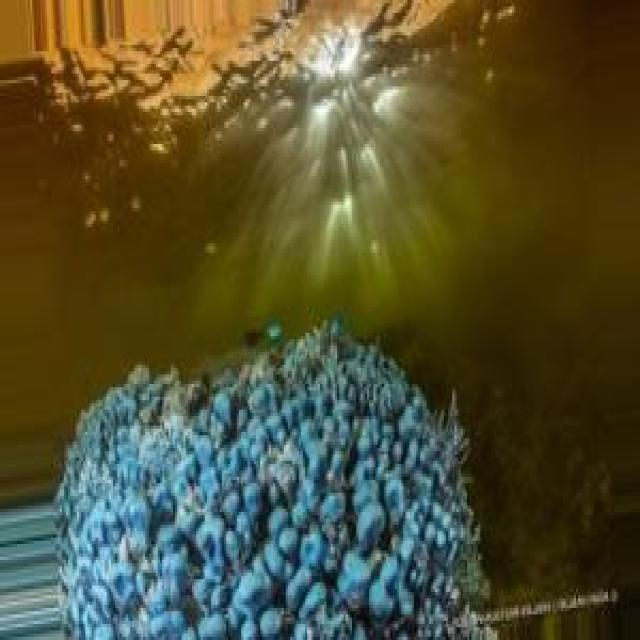Healthy: (56, 324, 468, 640)
